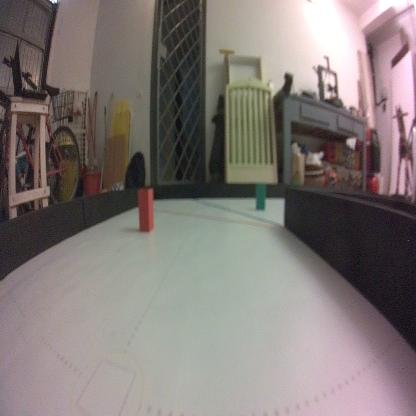green: (254, 181, 267, 210)
red: (136, 183, 155, 235)
